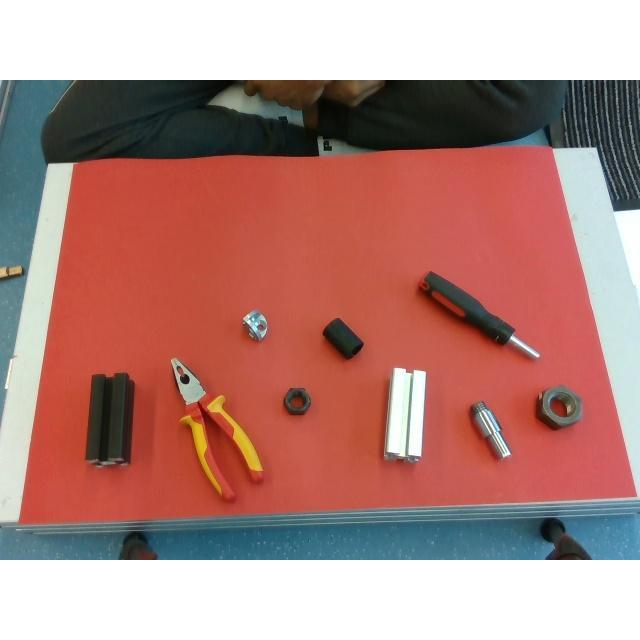Axis2: (470, 401, 510, 459)
M20: (283, 388, 311, 414)
M30: (538, 386, 582, 428)
S40_40_B: (85, 373, 133, 463)
S40_40_G: (384, 367, 426, 461)
